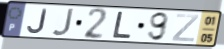2: (82, 6, 109, 41)
9: (145, 12, 171, 43)
J: (50, 7, 76, 37), (26, 8, 49, 35)
L: (111, 10, 133, 40)
Z: (170, 13, 201, 43)
